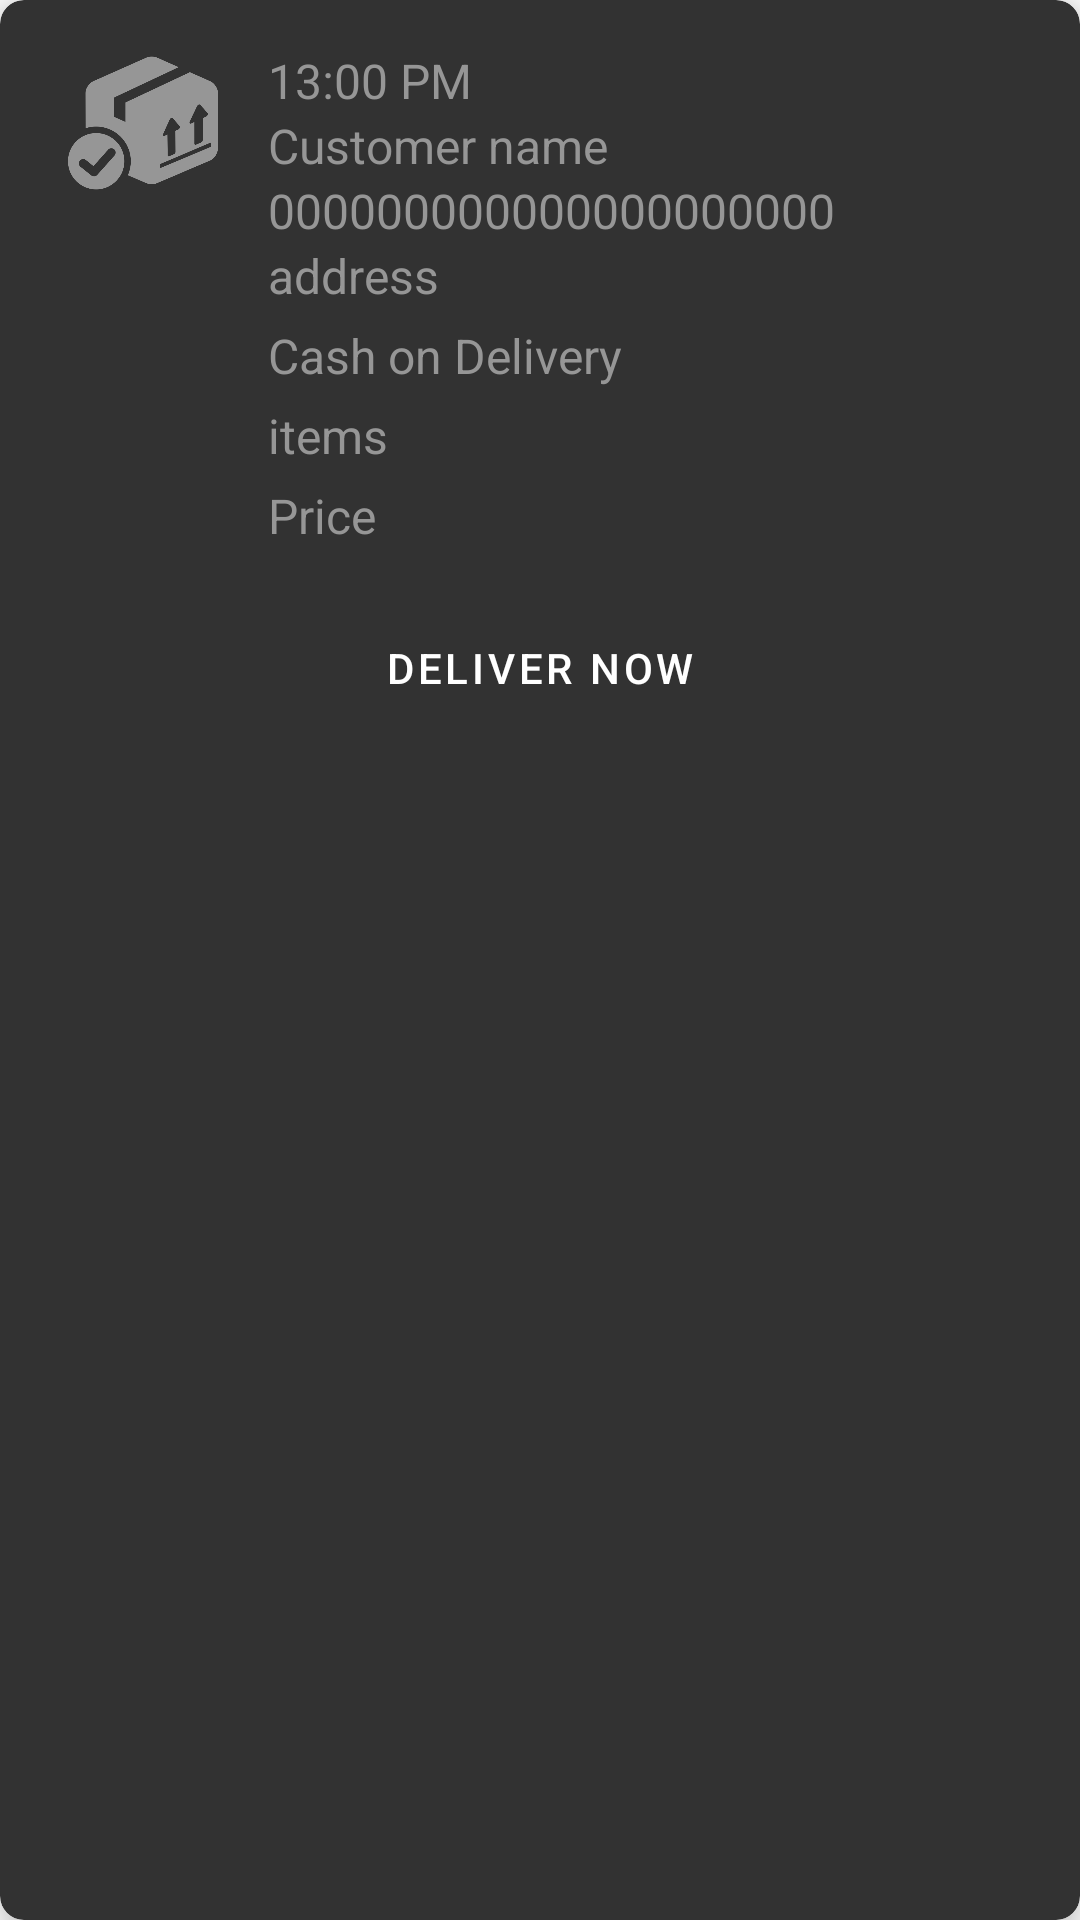

Locate icon controls on the screen. Image size 1080x1920, boxes as bbox=[x1, y1, x2, y2].
delivered: bbox=[68, 56, 218, 190]
